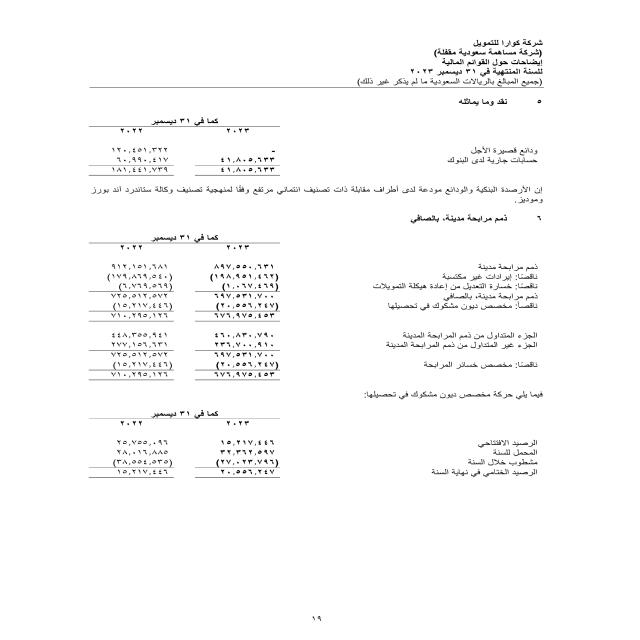notes: (435, 58, 550, 68)
table: (77, 222, 299, 385), (77, 402, 296, 488), (75, 105, 299, 184)
